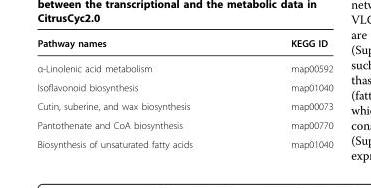table: (36, 36, 332, 149)
table column: (36, 36, 241, 149), (241, 36, 332, 149)
table column header: (36, 36, 332, 55)
table row: (36, 55, 332, 77), (36, 36, 332, 55), (36, 77, 332, 96), (36, 96, 332, 115), (36, 115, 332, 134), (36, 134, 332, 149)
